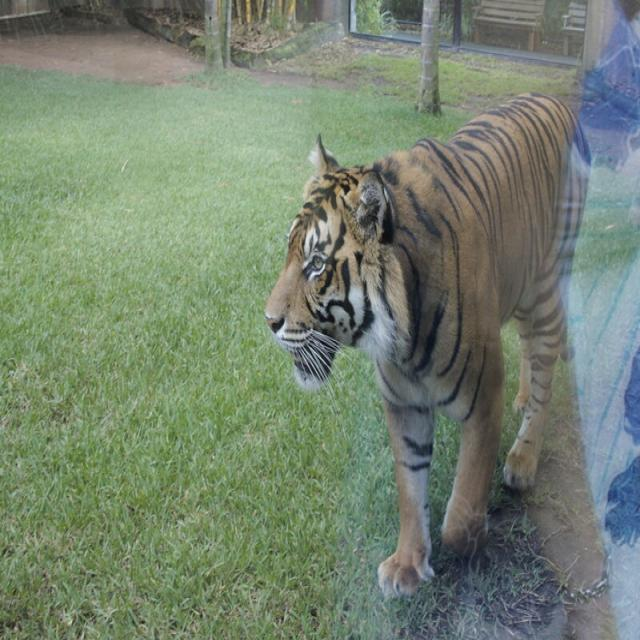Tiger: (262, 85, 590, 605)
